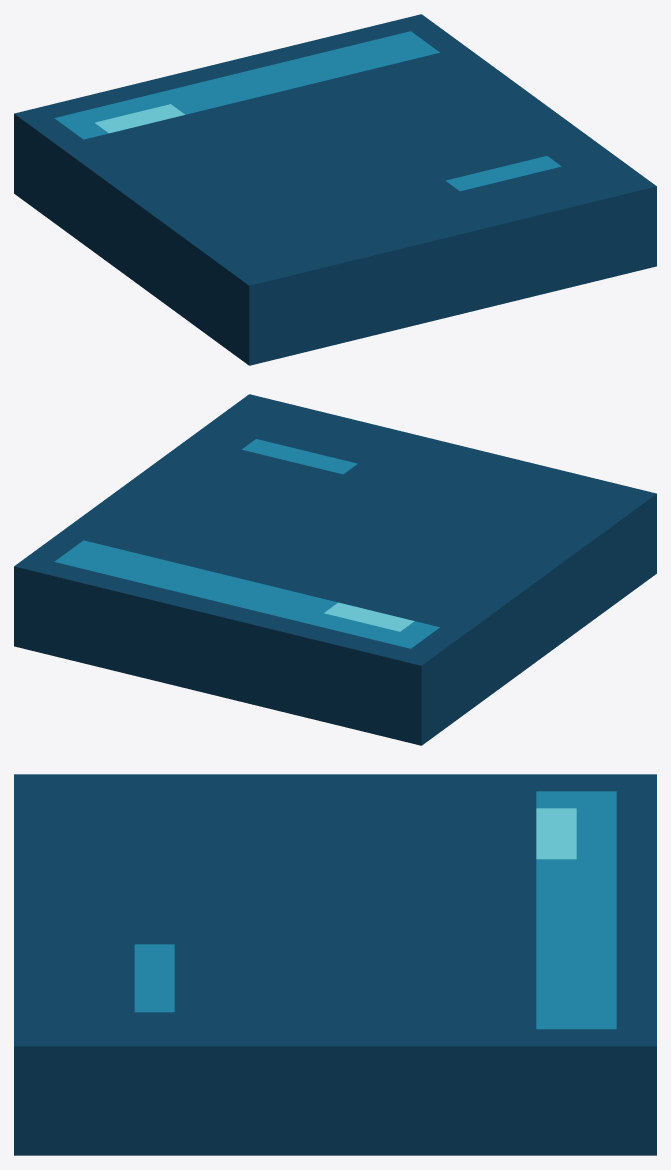
The model's file is pool_deep.obj.
The picture shows the model from 3 angles, top to bottom: view 1: azimuth 30°, elevation 25°; view 2: azimuth 150°, elevation 25°; view 3: azimuth 270°, elevation 25°; orthographic projection. The views are drawn at different scales.
Parts seen in each view (by area): view 1: pool_deep; view 2: pool_deep; view 3: pool_deep.
Boxes of the visible parts, x1,y1,x2,y2 form: pool_deep: (14, 14, 656, 365); pool_deep: (14, 394, 656, 745); pool_deep: (14, 774, 656, 1155).
Size of the model in its own units: 1 by 0.1875 by 1.
Materials: 1 (1 with a texture image).
